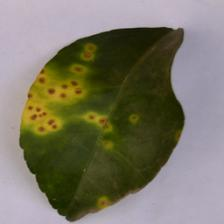canker: (12, 27, 142, 224)
